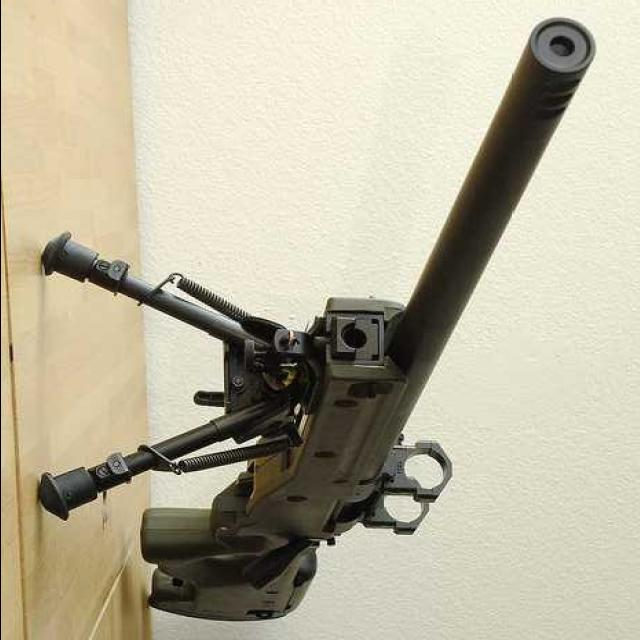heavyweapon: (99, 12, 617, 626)
